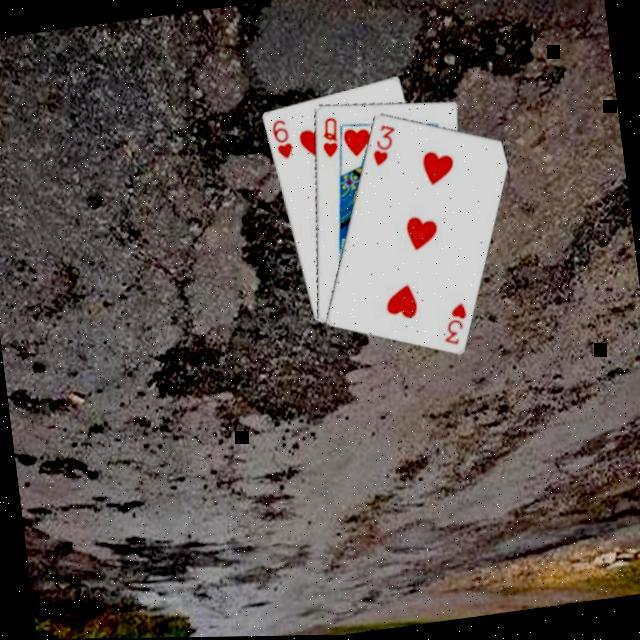3H: (438, 300, 475, 351), (368, 122, 403, 172)
6H: (269, 116, 298, 166)
QH: (317, 116, 344, 162)
